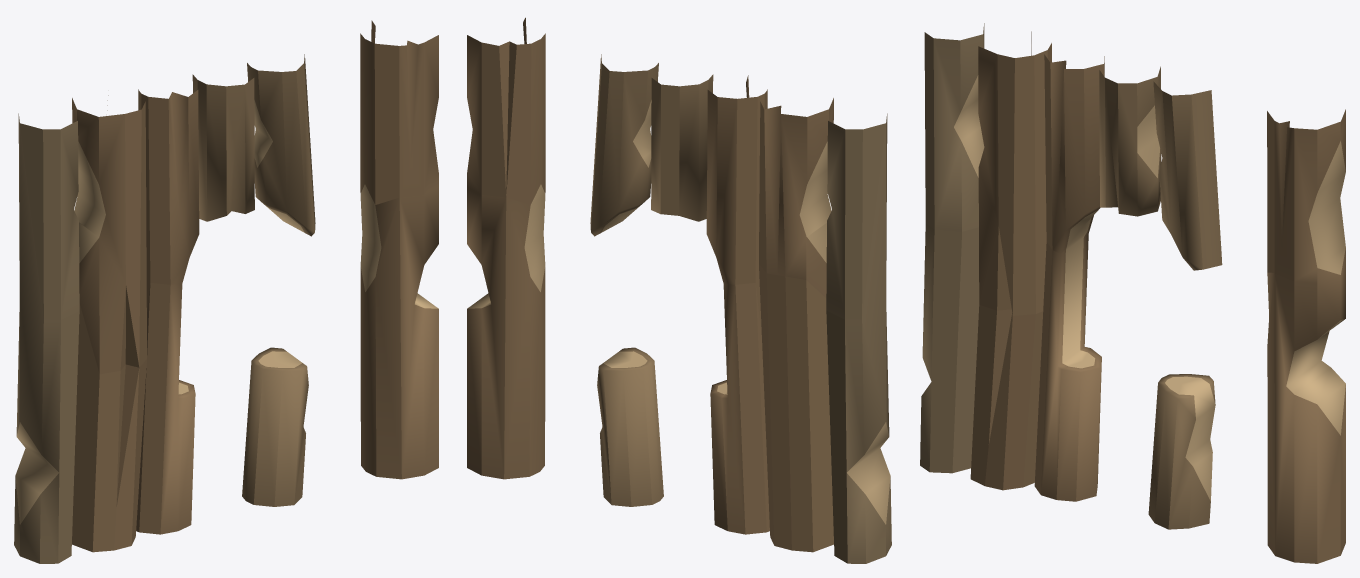
The model's file is rpgpp_av_wall_04_3x3_window_02b.gltf.
3 views of the same model, side by side, from view 1: azimuth 30°, elevation 25°; view 2: azimuth 150°, elevation 25°; view 3: azimuth 330°, elevation 25° (orthographic).
Parts seen in each view (by area): view 1: rpgpp_av_wall_04_3x3_window_02b; view 2: rpgpp_av_wall_04_3x3_window_02b; view 3: rpgpp_av_wall_04_3x3_window_02b.
Boxes of the visible parts, x1,y1,x2,y2 form: rpgpp_av_wall_04_3x3_window_02b: (14,20,438,563); rpgpp_av_wall_04_3x3_window_02b: (467,17,891,563); rpgpp_av_wall_04_3x3_window_02b: (920,23,1345,563).
Bounding box in the file's own units: 0.03 × 0.03 × 0.00471.
Materials: 1 (1 with a texture image).
